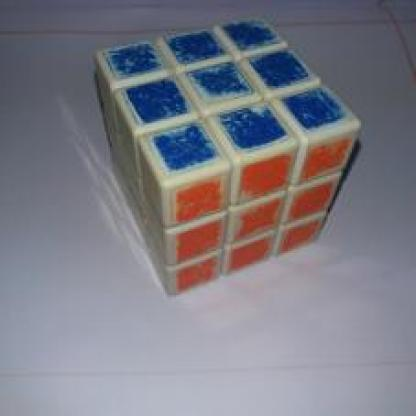cube: (88, 0, 371, 301)
